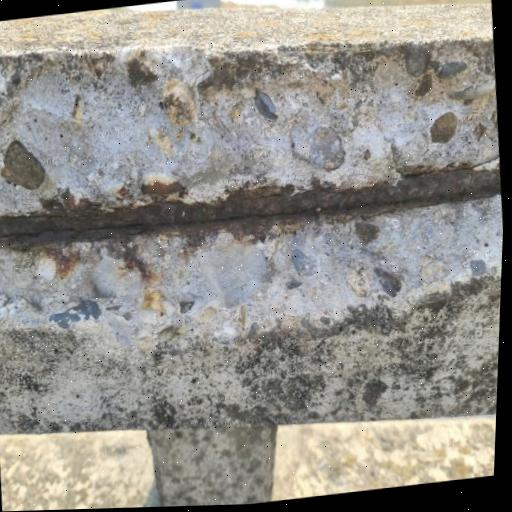exposed_rebar: (0, 159, 501, 240)
